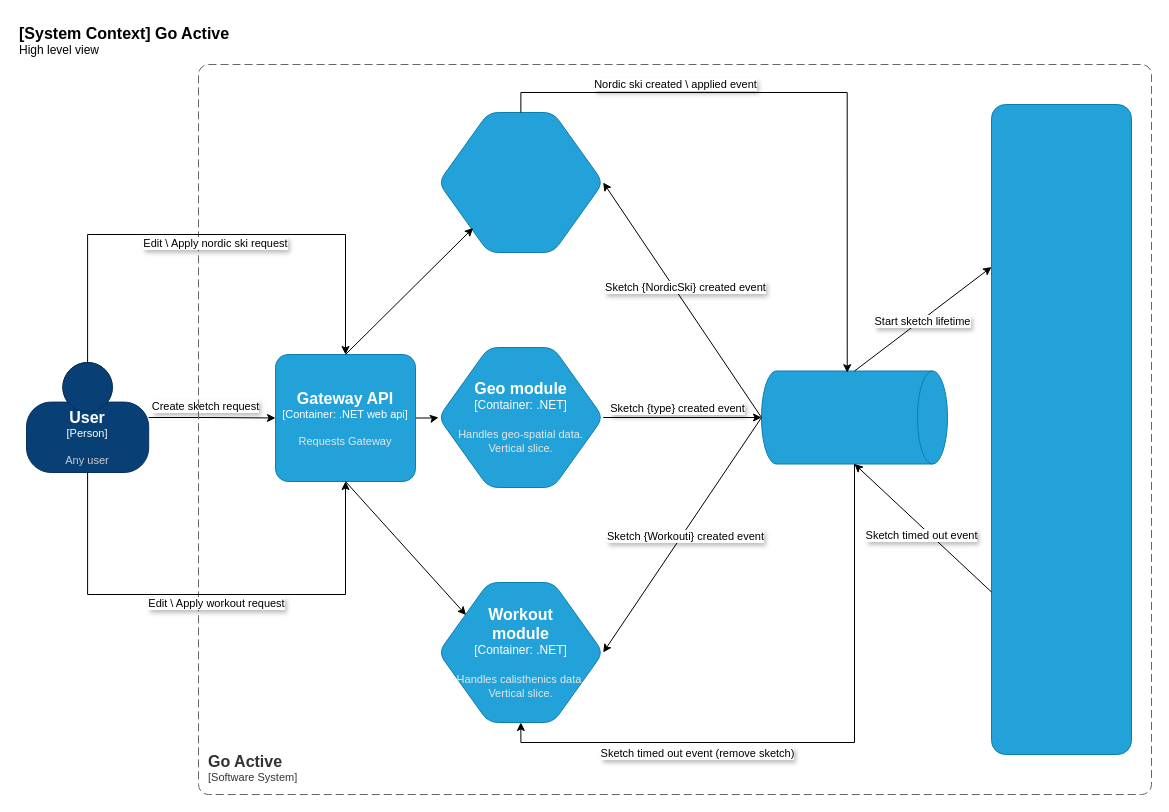
The diagram is 1169 pixels wide and 812 high, and some of its shapes have lost their labels. The shapes that lost their labels are listed below. From the top down, each one's centre as x and y in pixels, then its label:
At [520,182]: "Nordic Ski module [Container: .NET] Handles nordic-ski data. Vertical slice.".
At [854,417]: "Event Bus [Container: InMemory RabbitMQ Kafka]".
At [1061,429]: "Workflow [Container: .NET Worker] Controls sketch lifetime".
